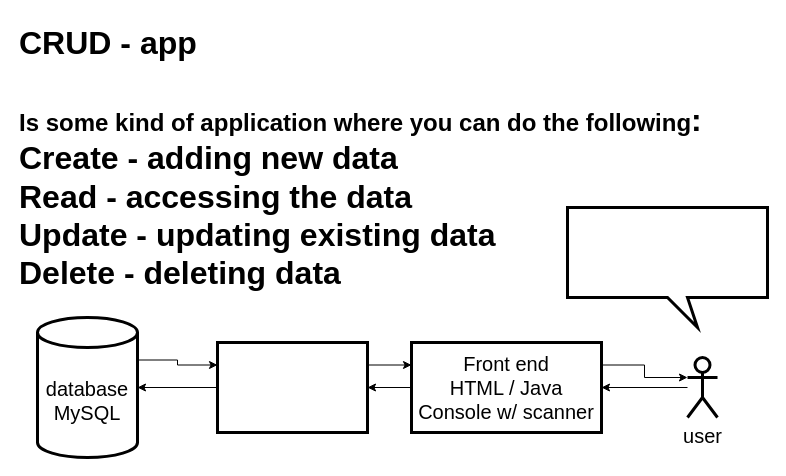
Some shapes in this 786 by 476 pixel diagram are drawn without their labels. Each missing label, with the box of its shape:
Backend Java Based: (216, 340, 368, 434)
I want to create a new record for my database: (566, 206, 768, 328)
